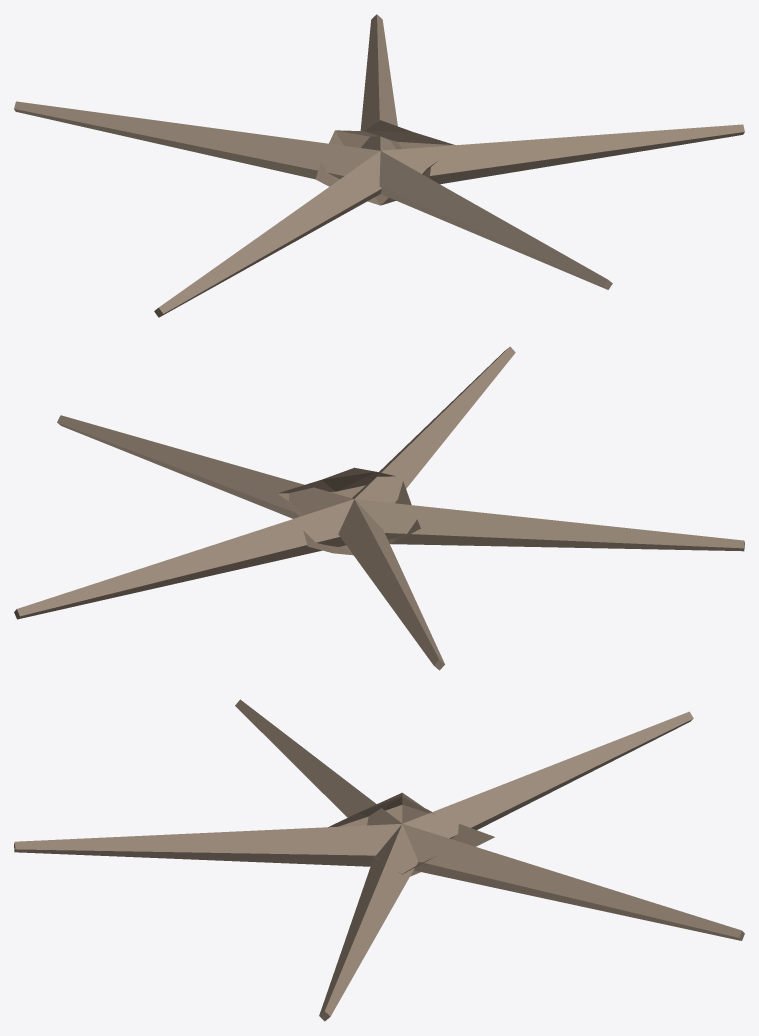
3 renders of one model, top to bottom at view 1: azimuth 30°, elevation 25°; view 2: azimuth 150°, elevation 25°; view 3: azimuth 270°, elevation 25°, orthographic. The views are drawn at different scales.
Visible parts, largest first — view 1: lod0; view 2: lod0; view 3: lod0.
Part boxes in pixels (x1=…): lod0: x1=14, y1=14, x2=744, y2=317; lod0: x1=14, y1=346, x2=744, y2=670; lod0: x1=14, y1=699, x2=744, y2=1021.
Size of what is drawn, in the model's own units: 1.52 by 0.1975 by 1.5.
